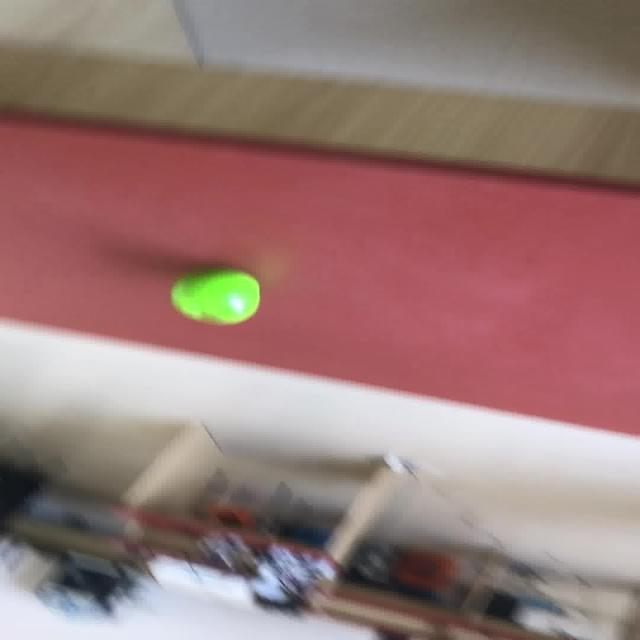apple: (168, 269, 260, 325)
